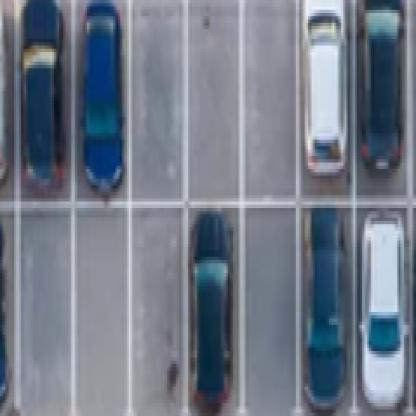Car: (301, 23, 353, 188), (198, 206, 240, 378), (313, 225, 351, 385), (367, 220, 400, 375), (26, 27, 59, 176), (94, 25, 122, 186), (370, 23, 392, 154)
Empty: (88, 248, 118, 406), (142, 229, 171, 384), (195, 40, 230, 167), (22, 258, 57, 378), (136, 43, 163, 186), (257, 249, 285, 380), (256, 49, 281, 170)
